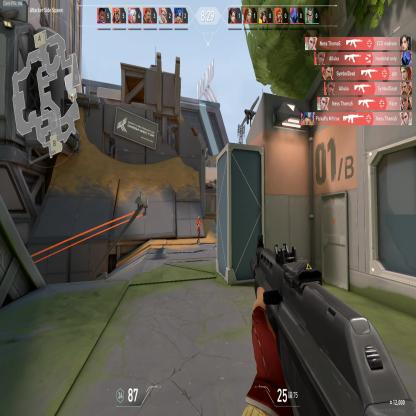enemy: (195, 215, 201, 244)
